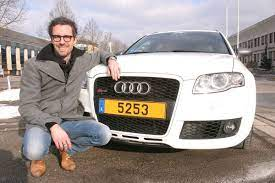number_plate: (95, 96, 172, 120)
